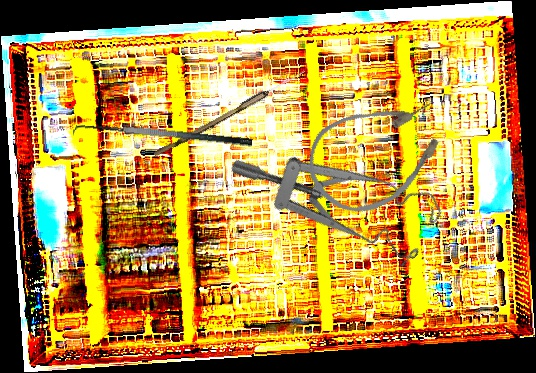Cannula: (294, 81, 462, 228)
Spatula Surgical: (72, 116, 253, 162)
Speculum: (227, 82, 454, 301)
Surgical Spoon: (153, 66, 307, 161)
